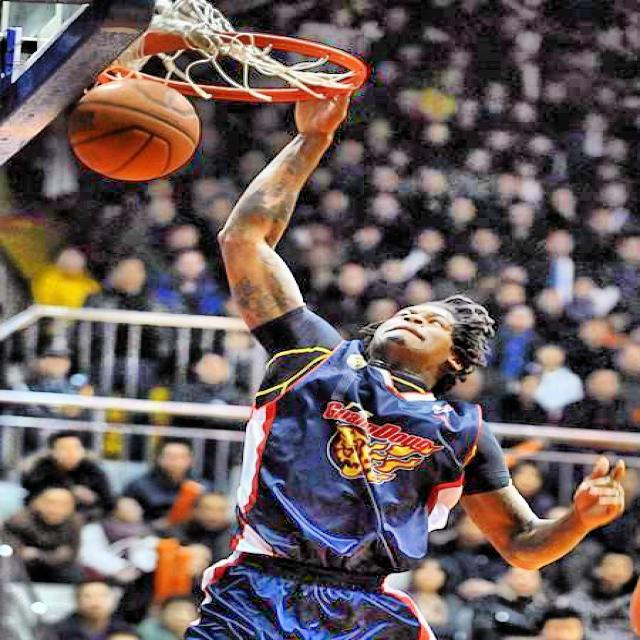board: (68, 79, 201, 180)
